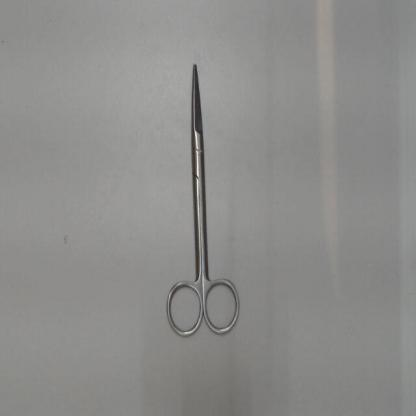Curved Mayo Scissors: (161, 58, 244, 342)
